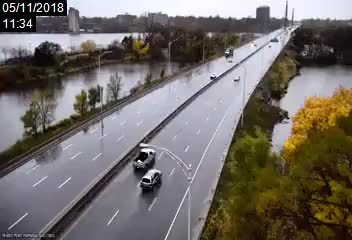personal_car: (134, 147, 156, 173), (140, 169, 162, 192), (209, 72, 217, 80), (233, 74, 240, 83)
truck: (224, 46, 234, 57)
